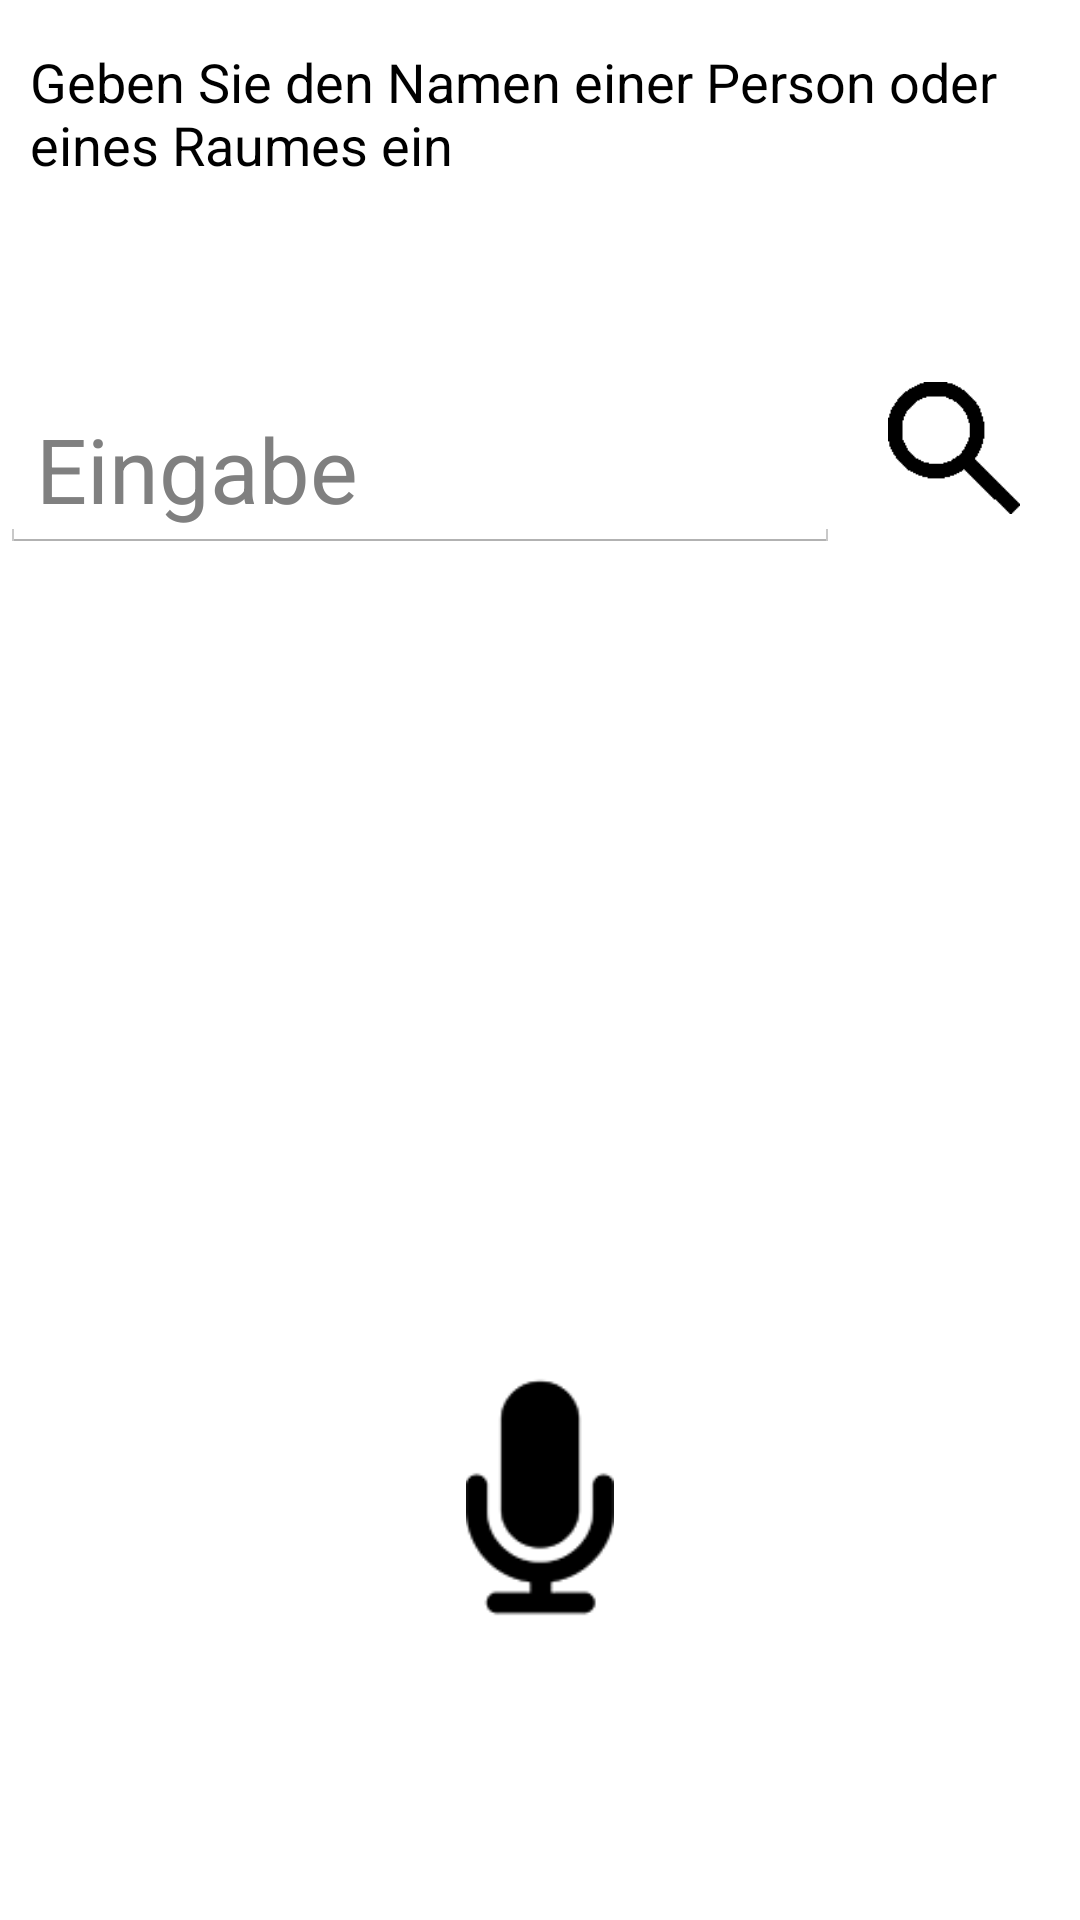

Icon bounding boxes for this 1080 x 1920 phone screenshot, format (x1,y1,x2,y2):
Spracheingabe starten: (466,1380,614,1615)
Suche starten: (888,382,1020,514)
